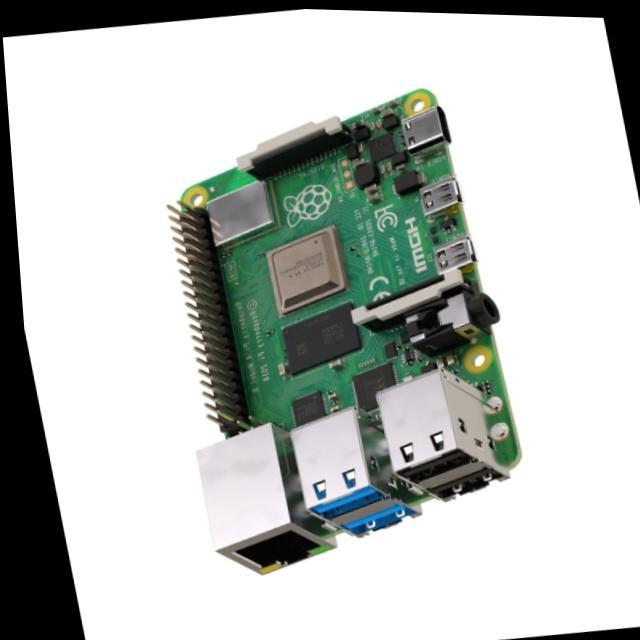Raspberry-Pi-4-B: (169, 90, 521, 574)
